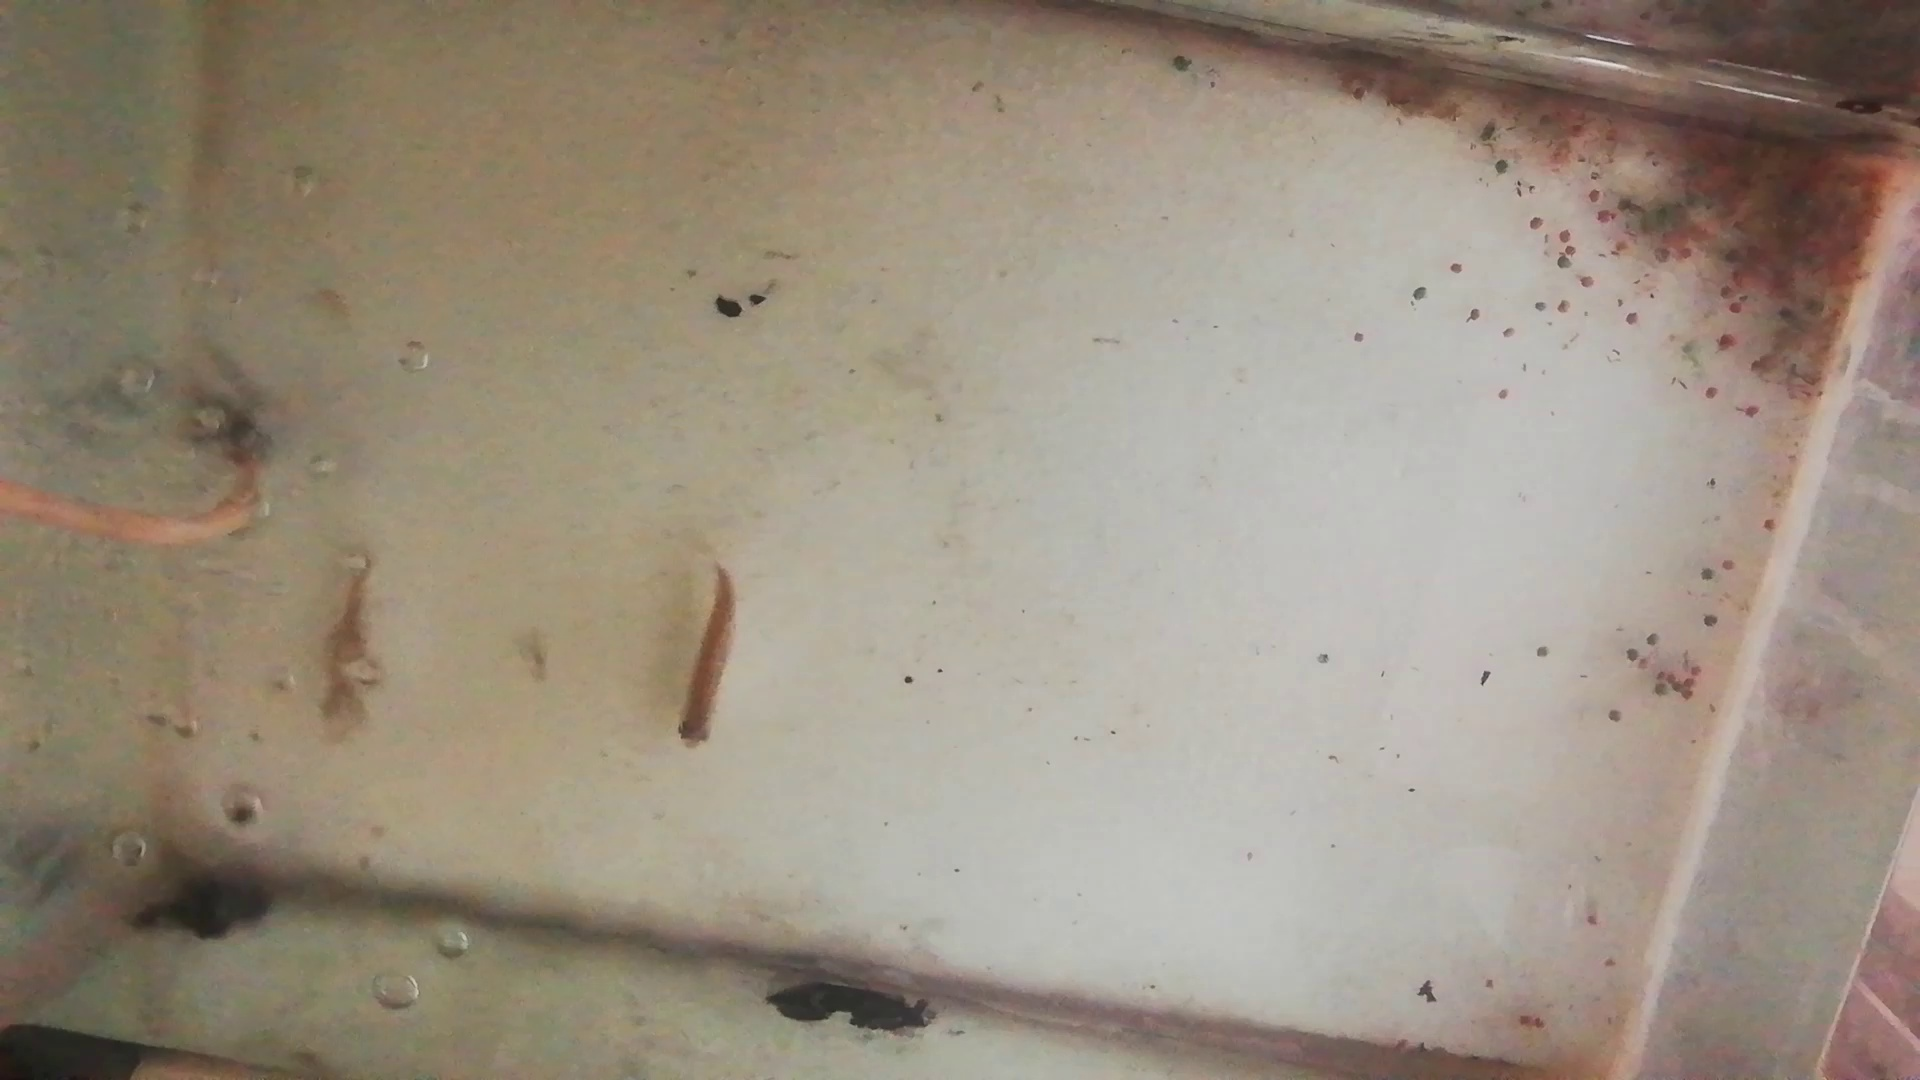fish: (311, 553, 380, 752), (673, 558, 737, 753)
